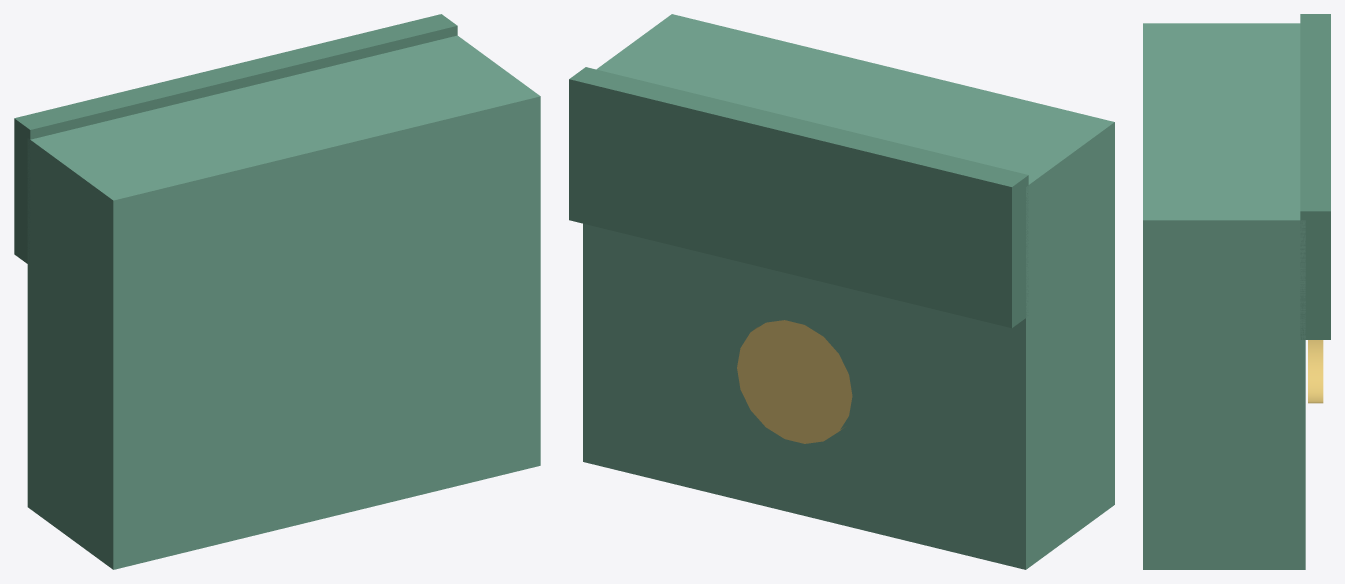
File: merchant-satchel.glb
3 renders of one model, left to right at view 1: azimuth 30°, elevation 25°; view 2: azimuth 150°, elevation 25°; view 3: azimuth 270°, elevation 25°, orthographic. The views are drawn at different scales.
Visible parts, largest first — view 1: merchant-satchel; view 2: merchant-satchel; view 3: merchant-satchel.
Boxes of the visible parts, box(x1,y1,x2,y2) form: merchant-satchel: box(14, 14, 540, 569); merchant-satchel: box(569, 14, 1114, 569); merchant-satchel: box(1143, 14, 1330, 569).
Bounding box in the file's own units: 0.46 × 0.39 × 0.185.
